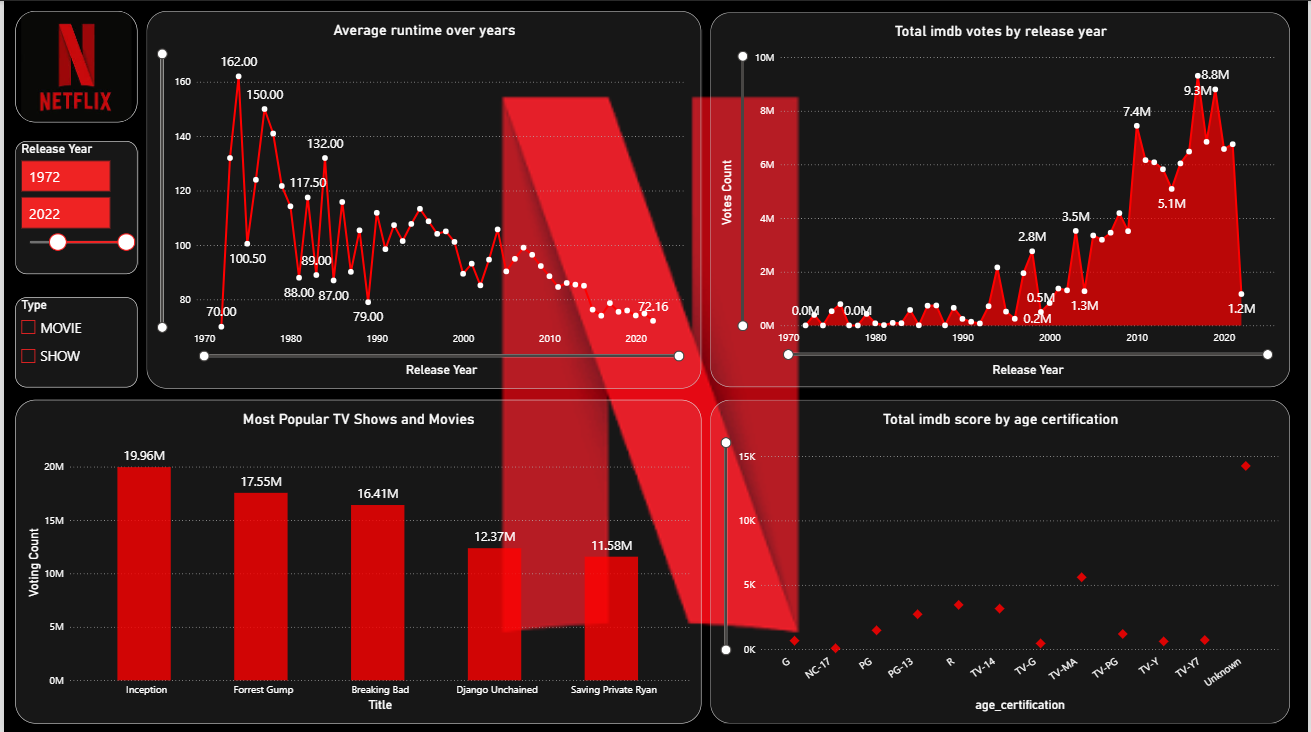

This screenshot's page, from the dashboard's own definition file:
{"tool":"powerbi","page":{"name":"Page 1","canvas":[1920,1080],"ordinal":0},"visuals":[{"type":"image","box":[16.6,14.7,180.4,163.8],"z":0},{"type":"clusteredColumnChart","title":"Most Popular TV Shows and Movies","fields":{"Category":["Netflix TV Shows and Movies.title"],"Y":["Sum(Netflix TV Shows and Movies.Rating Votes)"]},"box":[16.6,587.1,1010.4,476.7],"z":1000},{"type":"slicer","fields":{"Values":["Netflix TV Shows and Movies.release_year"]},"box":[16,206,180.4,196],"z":2000},{"type":"slicer","fields":{"Values":["Netflix TV Shows and Movies.type"]},"box":[16.6,436.2,180.4,132.5],"z":3000},{"type":"scatterChart","title":"Total imdb score by age certification","fields":{"X":["Netflix TV Shows and Movies.age_certification"],"Y":["Sum(Netflix TV Shows and Movies.imdb_score)"]},"box":[1039.9,587.1,854,476.7],"z":4000},{"type":"lineChart","title":"Average runtime over years","fields":{"Category":["Netflix TV Shows and Movies.release_year"],"Y":["Avg(Netflix TV Shows and Movies.runtime)"]},"box":[209.8,14.7,817.2,555.8],"z":5000},{"type":"areaChart","title":"Total imdb votes by release year","fields":{"Category":["Netflix TV Shows and Movies.release_year"],"Y":["Sum(Netflix TV Shows and Movies.imdb_votes)"]},"box":[1039.9,16.6,854,552.2],"z":6000}]}

Visuals, with their boxes in screenshot pixels (x1, y1, x2, y2), scaled from the page's 1920x1080 canvas onto the 1311x732 screenshot:
image: rect(11, 10, 135, 121)
"Most Popular TV Shows and Movies" clusteredColumnChart: rect(11, 398, 701, 721)
slicer - Netflix TV Shows and Movies.release_year: rect(11, 140, 134, 272)
slicer - Netflix TV Shows and Movies.type: rect(11, 296, 135, 385)
"Total imdb score by age certification" scatterChart: rect(710, 398, 1293, 721)
"Average runtime over years" lineChart: rect(143, 10, 701, 387)
"Total imdb votes by release year" areaChart: rect(710, 11, 1293, 386)
